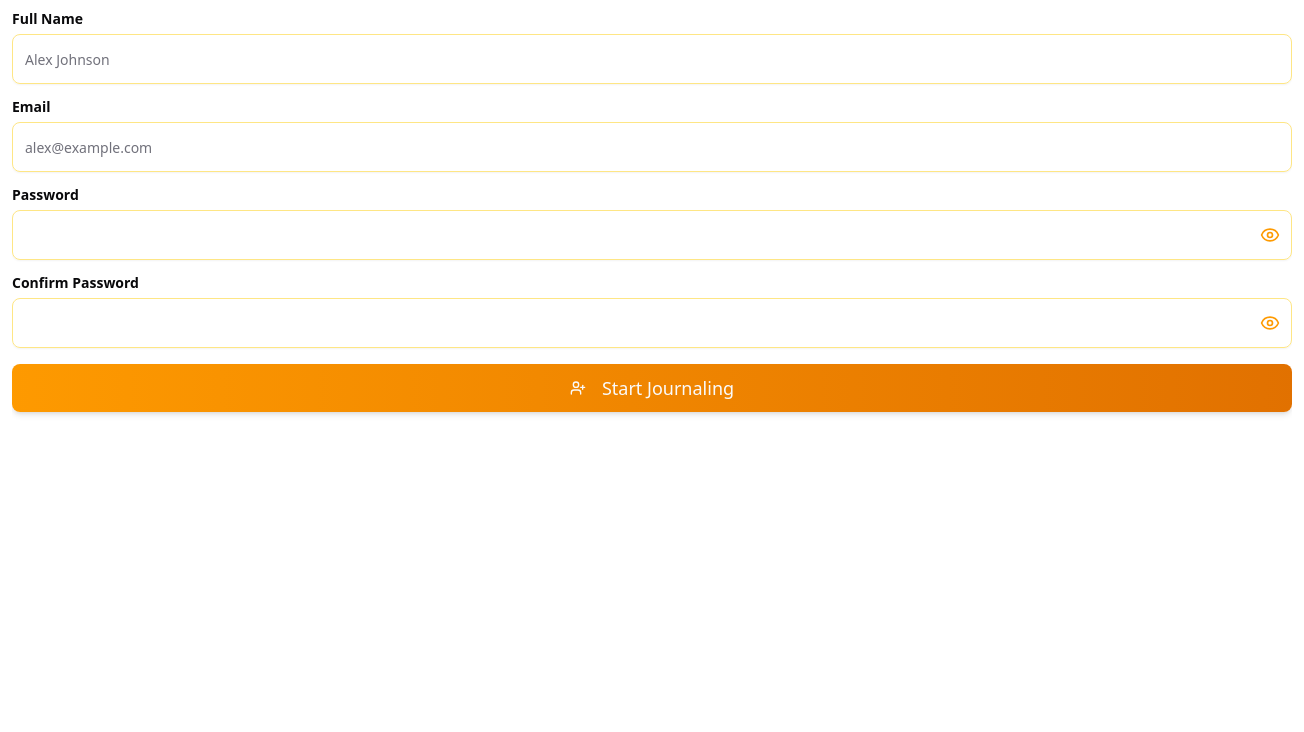
Test: RegistrationForm › Frontend Validation Error › validates password length
Type "invalid" into the password field labelled "Password".
click(652, 235); type("invalid")  # box [12,210,1292,260]
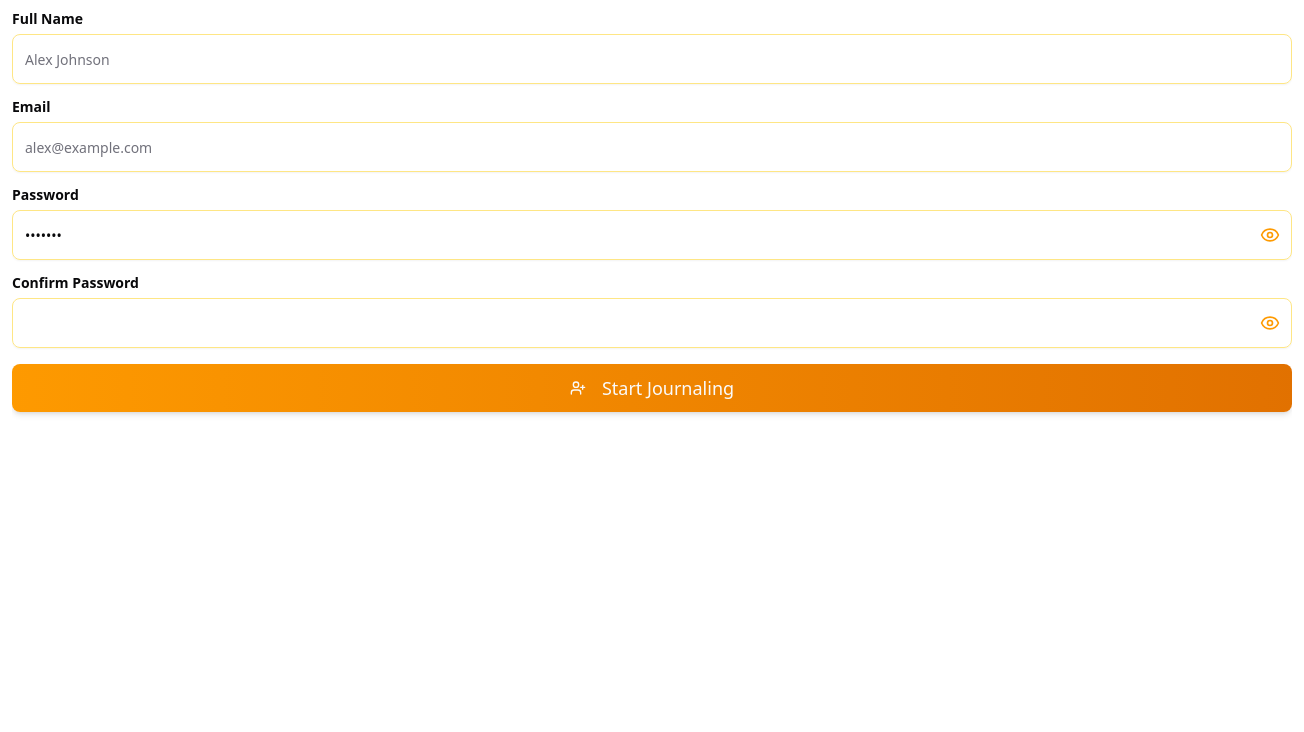
Click the button "Start Journaling".
click(652, 388)  # box [12,364,1292,412]
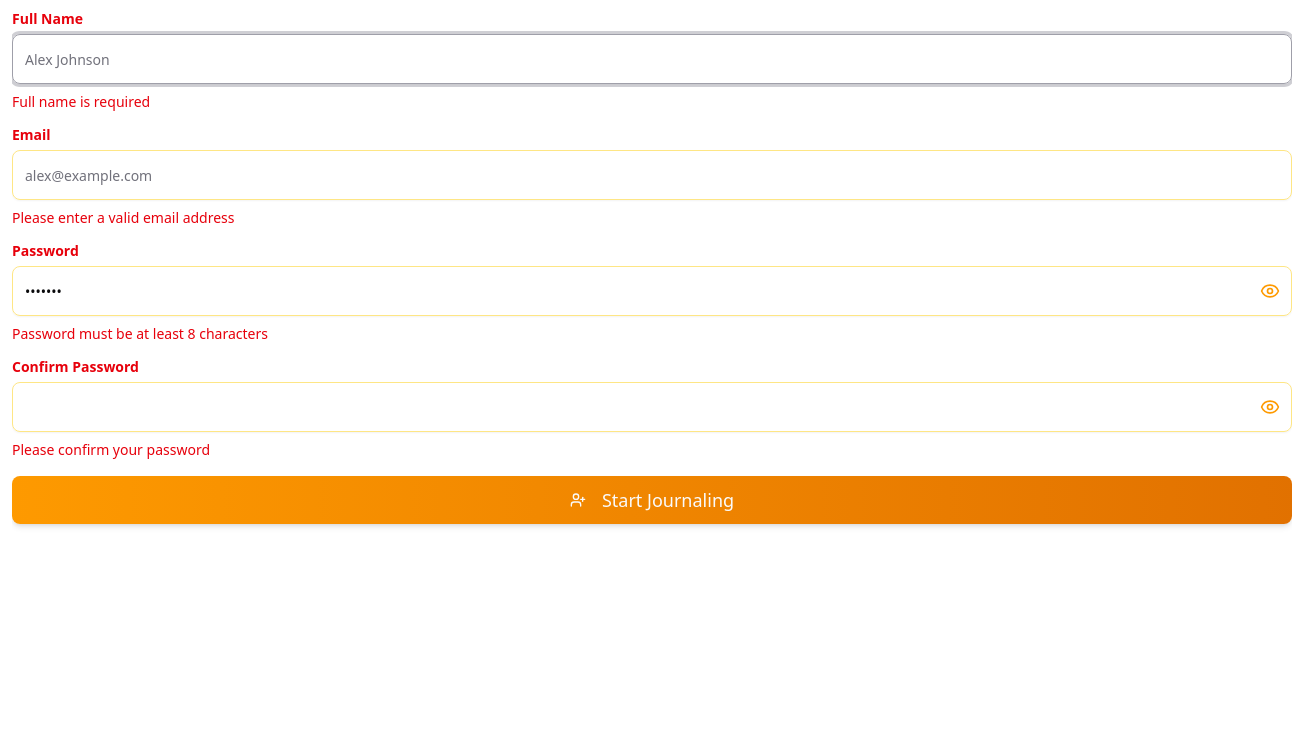
Now the text "Password must be at least 8 characters" is shown, box [12,324,268,343]
